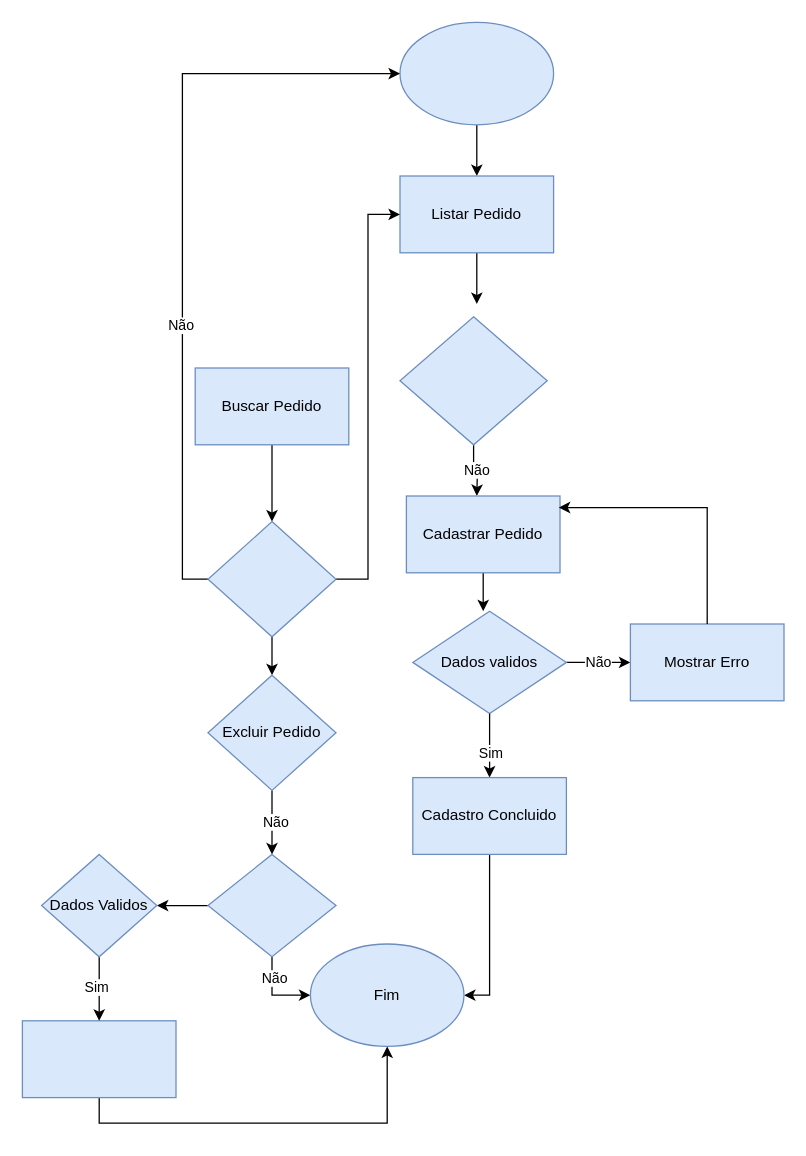
This 806x1156 diagram has some shape labels left out. The shapes that lost their labels are listed below. From the top down, each one's centre as x and y in pixels, then its label:
point 476,73: Inicio
point 473,380: Pedido Cadastrado
point 271,578: Pedido Encontrado
point 271,905: Atualizar Pedido
point 98,1059: Atualização Concluida
